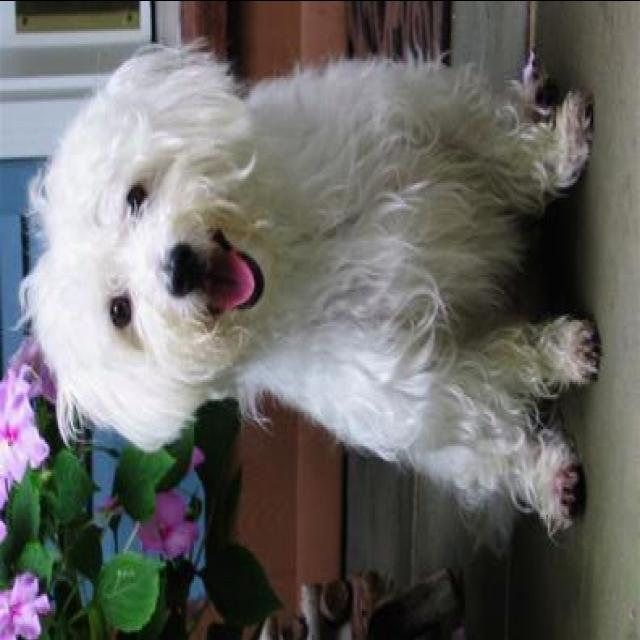maltese_dog: (16, 45, 600, 533)
